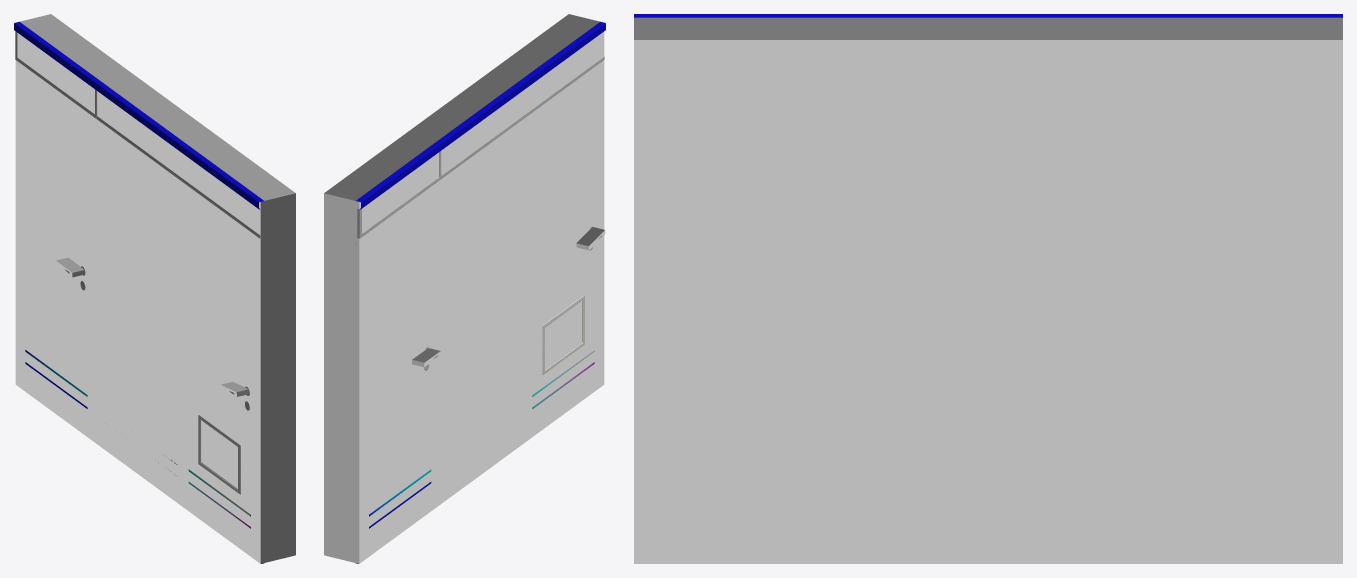
3 views of the same model, side by side, from view 1: azimuth 30°, elevation 25°; view 2: azimuth 150°, elevation 25°; view 3: azimuth 270°, elevation 25° (orthographic). The views are drawn at different scales.
Visible parts, largest first — view 1: SM_Wall_Door_300x_01a_ConvexHulls, SM_Wall_Door_300x_01a; view 2: SM_Wall_Door_300x_01a_ConvexHulls, SM_Wall_Door_300x_01a; view 3: SM_Wall_Door_300x_01a_ConvexHulls, SM_Wall_Door_300x_01a.
Part boxes in pixels (x1,y1,x2,y2): SM_Wall_Door_300x_01a_ConvexHulls: (15, 14, 295, 563); SM_Wall_Door_300x_01a: (14, 21, 264, 563); SM_Wall_Door_300x_01a_ConvexHulls: (324, 14, 605, 563); SM_Wall_Door_300x_01a: (355, 21, 605, 563); SM_Wall_Door_300x_01a_ConvexHulls: (634, 17, 1342, 563); SM_Wall_Door_300x_01a: (634, 14, 1342, 17).
Size of the model in its own units: 33.97 by 300 by 245.
